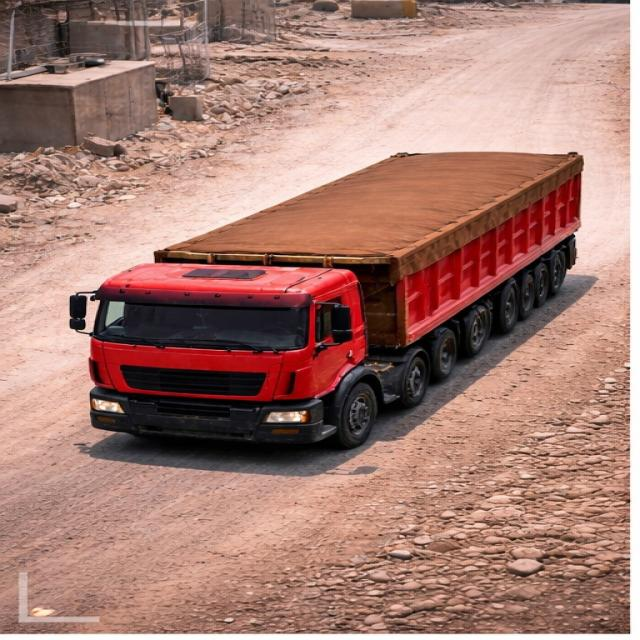trailer: (148, 145, 587, 261)
truck: (63, 134, 598, 445)
